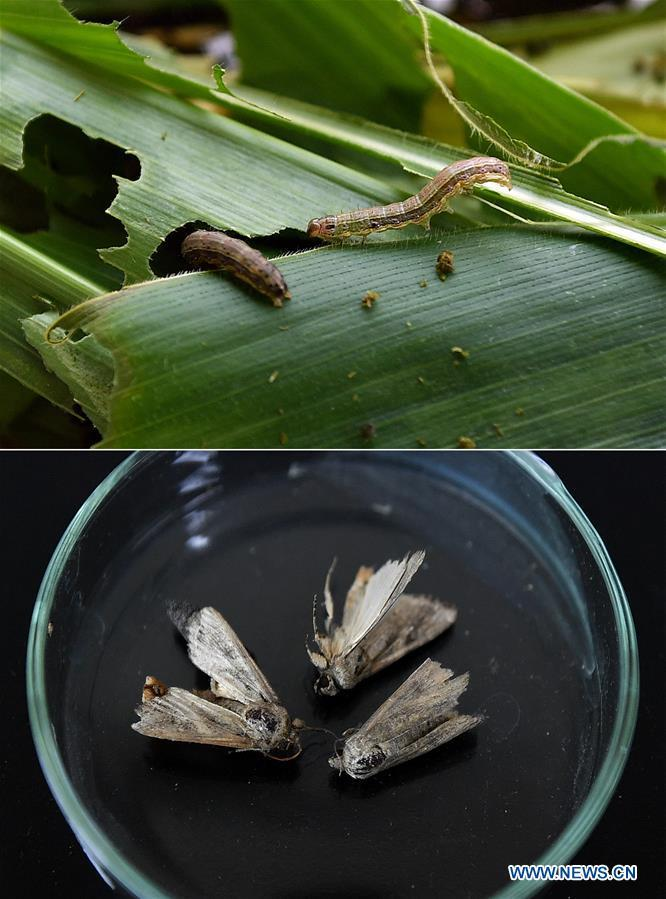Armyworm: (303, 150, 516, 272), (176, 212, 291, 335)
